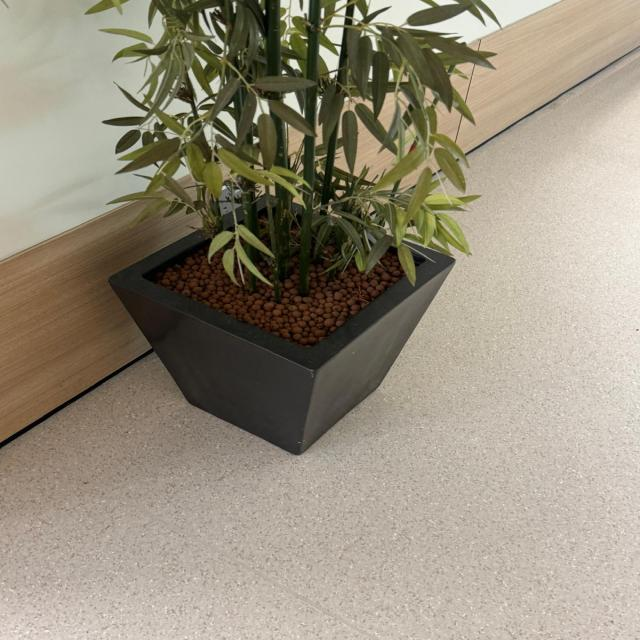Pot: (107, 191, 460, 456)
